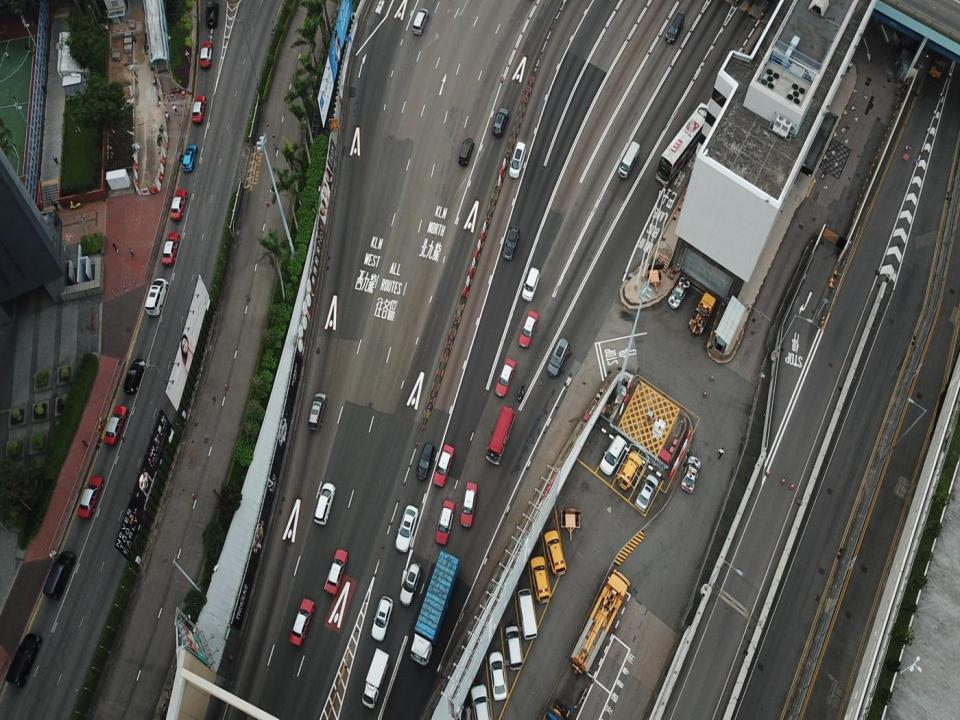bus: (656, 102, 712, 187), (486, 406, 516, 465)
car: (289, 597, 314, 647), (77, 476, 104, 519), (395, 504, 418, 553), (324, 549, 348, 595), (489, 650, 508, 701), (433, 444, 455, 487), (372, 596, 393, 641), (104, 406, 128, 445), (635, 473, 658, 512), (494, 357, 516, 397), (436, 499, 454, 545), (460, 482, 478, 527), (123, 358, 146, 393), (518, 310, 538, 348), (471, 683, 492, 719), (667, 277, 690, 308), (681, 456, 700, 492), (502, 226, 520, 260), (162, 232, 180, 266), (170, 189, 188, 221), (491, 107, 509, 135), (182, 144, 198, 172), (192, 95, 206, 122), (199, 41, 212, 70)
truck: (571, 569, 630, 672), (410, 549, 459, 666), (362, 647, 390, 709), (689, 292, 716, 336), (928, 29, 950, 80)
van: (6, 632, 42, 686), (43, 551, 76, 598), (517, 588, 538, 640), (600, 435, 627, 475), (399, 560, 422, 606), (616, 451, 642, 491), (544, 530, 566, 576), (530, 556, 551, 603), (314, 482, 336, 526), (144, 278, 168, 315), (547, 338, 569, 378), (618, 141, 640, 179), (505, 624, 522, 670), (416, 442, 436, 480), (309, 392, 327, 429), (522, 266, 540, 301), (509, 142, 526, 178), (665, 13, 684, 45), (412, 8, 429, 35), (458, 137, 474, 165), (206, 2, 219, 27)
